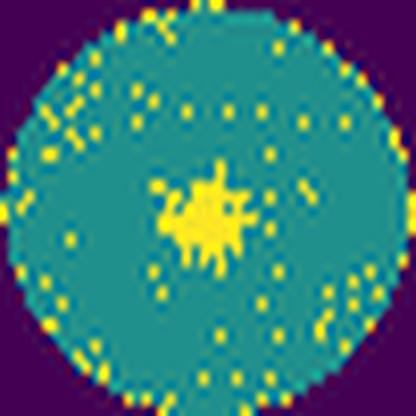Center: (151, 156, 258, 281)
